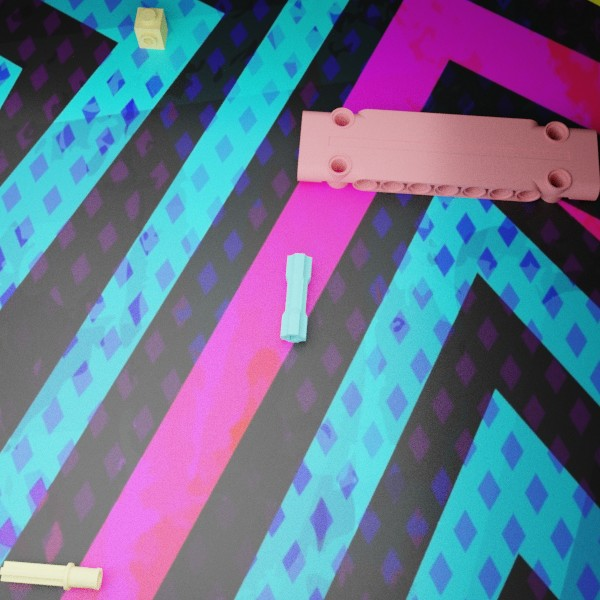lego: (297, 107, 600, 202), (0, 561, 102, 590), (280, 253, 312, 342), (134, 7, 167, 49)
